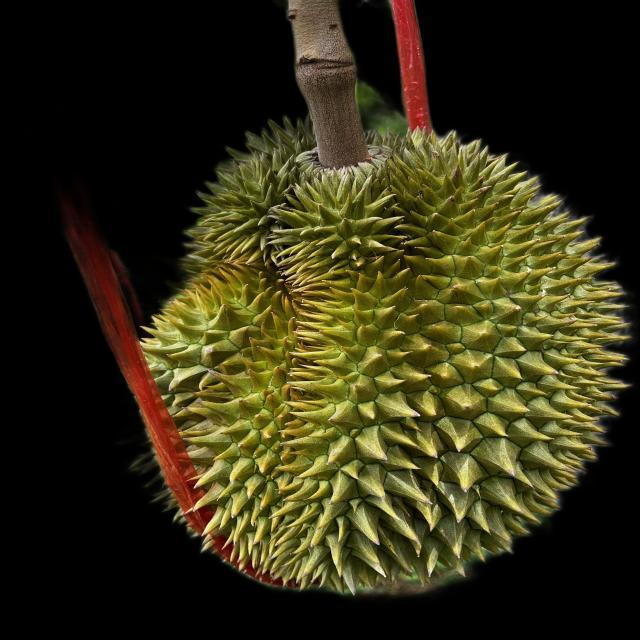immature: (142, 113, 634, 598)
